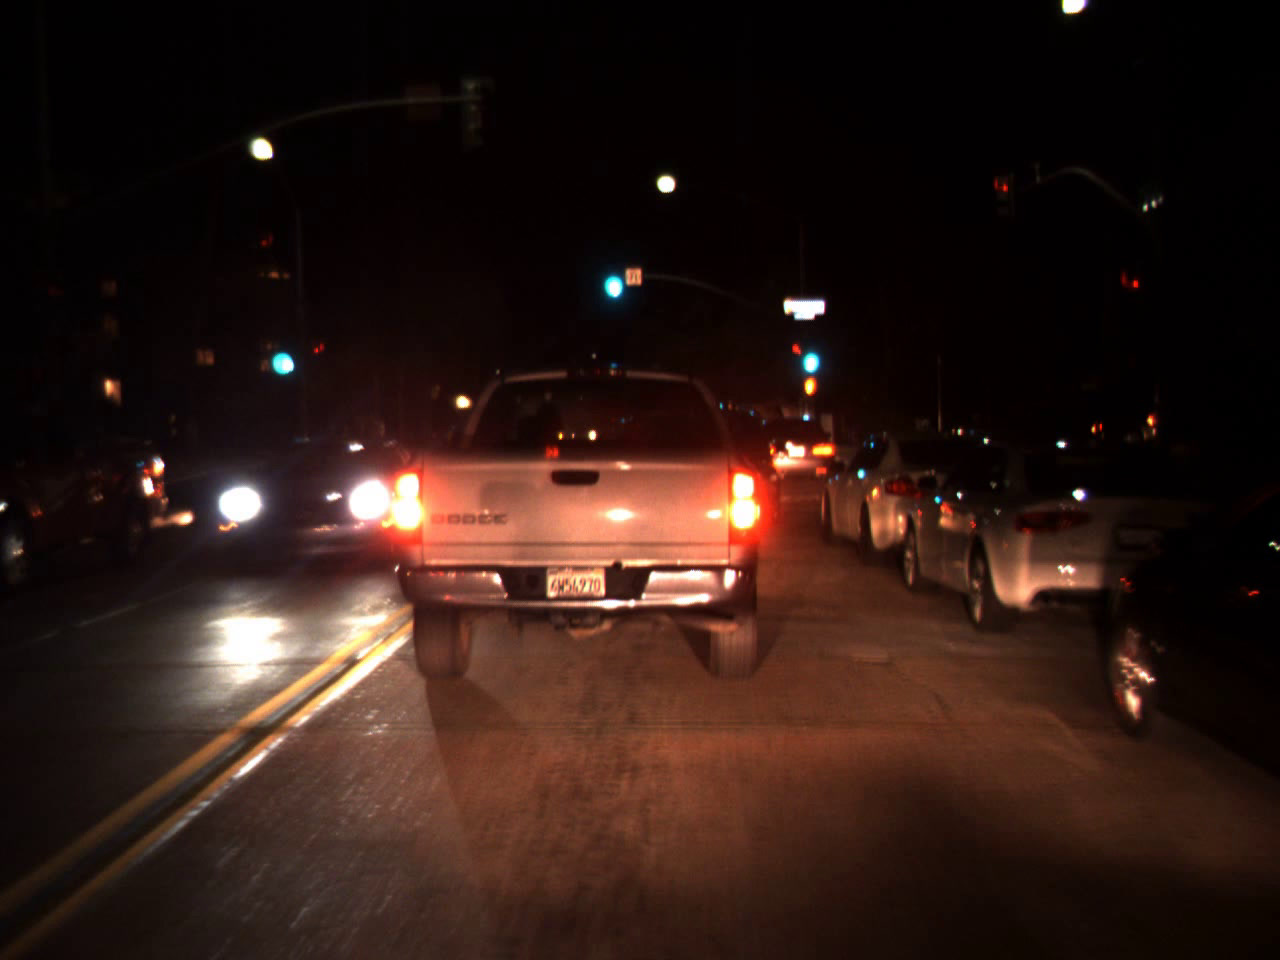go: (265, 324, 295, 384), (596, 248, 626, 305), (797, 327, 822, 381)
